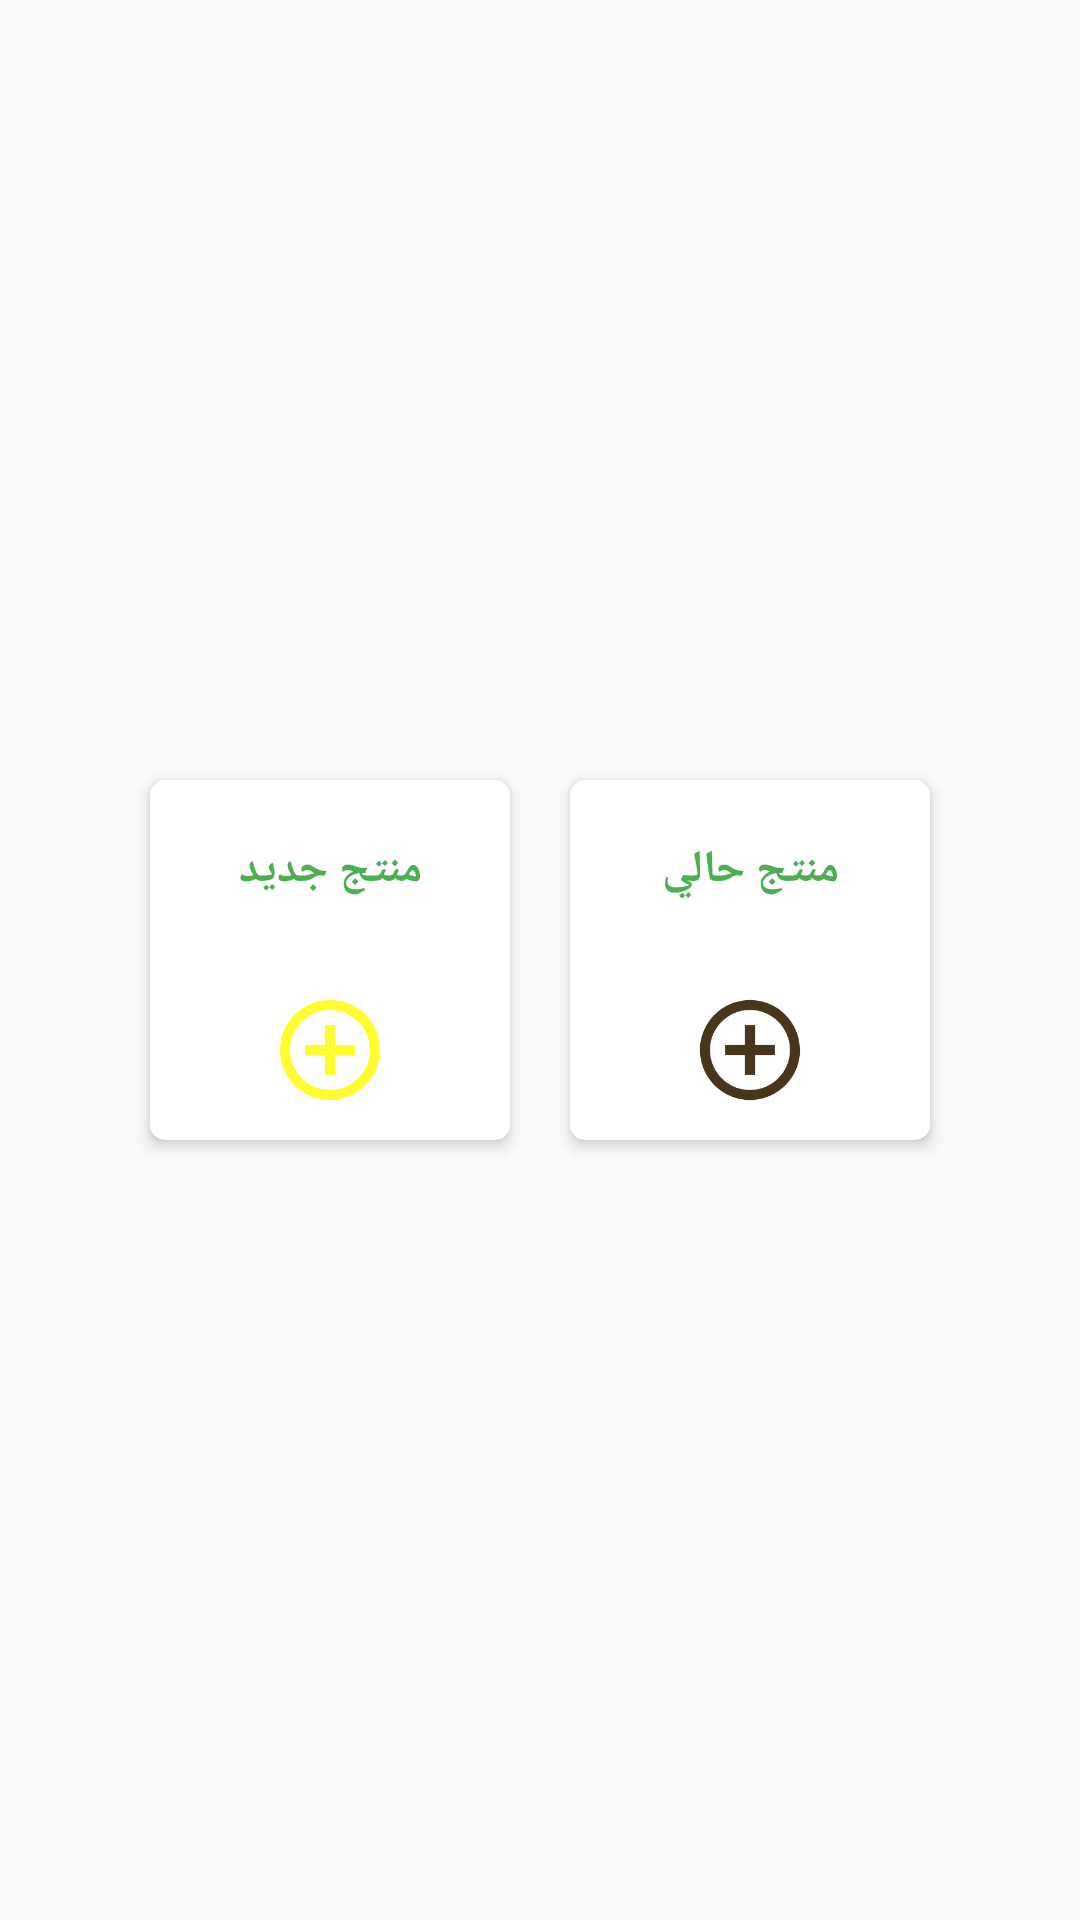

Where to tap for icons on this 1080px×1920px app screen, as (x,y):
add: (330,1050)
add old: (749,1050)
